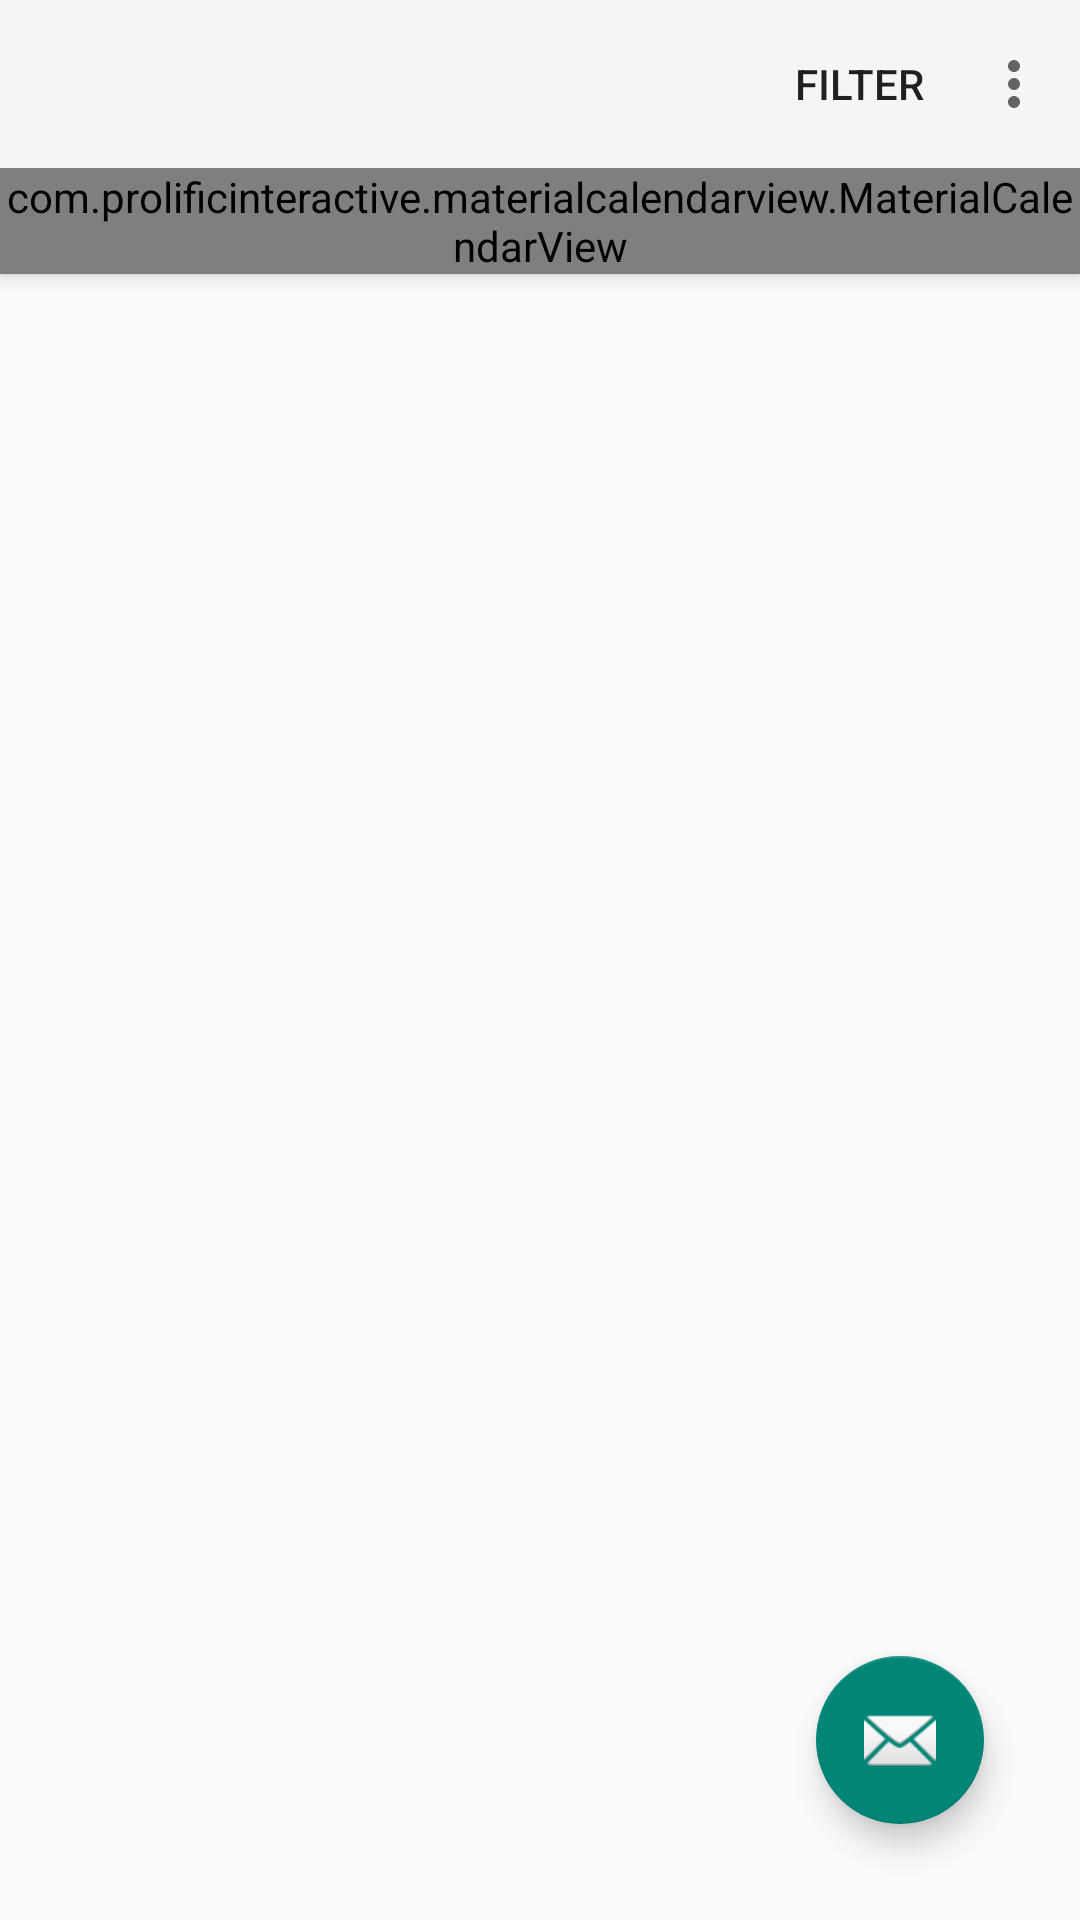

Icon bounding boxes for this 1080×1920 phone screenshot, format Rect(x1, y1, x2, y2):
email: Rect(816, 1656, 984, 1824)
